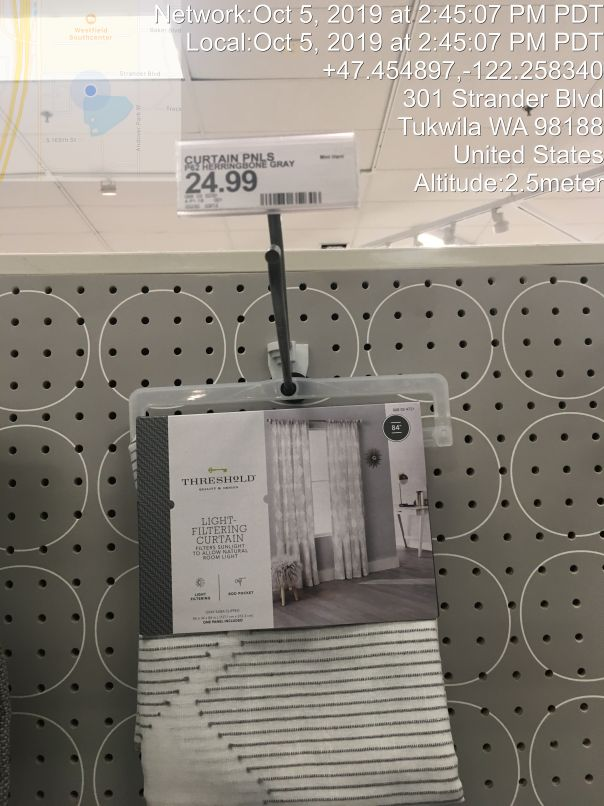Curtain Pnls: (120, 369, 492, 806)
Label: (169, 124, 369, 225)
Location: (395, 82, 604, 169)
Time: (151, 1, 604, 58)
